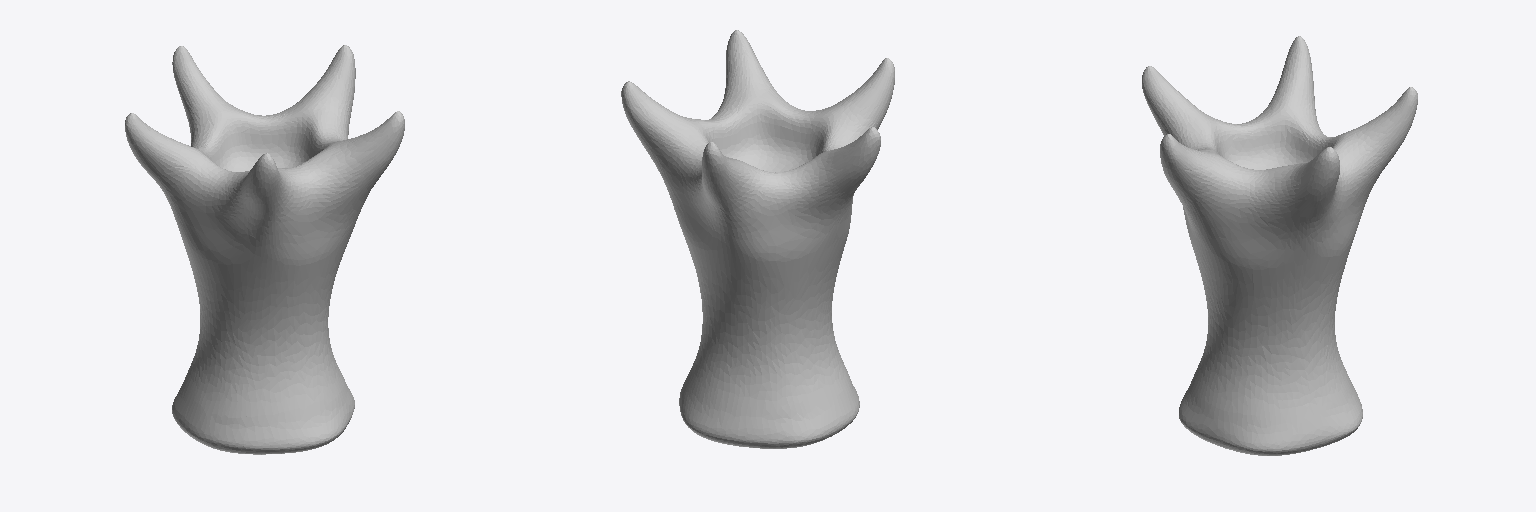
The model's file is eat-simple-2.obj.
3 renders of one model, left to right at view 1: azimuth 30°, elevation 25°; view 2: azimuth 150°, elevation 25°; view 3: azimuth 270°, elevation 25°, orthographic.
Parts seen in each view (by area): view 1: Quad_Sphere; view 2: Quad_Sphere; view 3: Quad_Sphere.
Boxes of the visible parts, <box> form: Quad_Sphere: <box>125,45,404,454</box>; Quad_Sphere: <box>621,30,894,448</box>; Quad_Sphere: <box>1142,36,1417,455</box>.
Bounding box in the file's own units: 3.69 × 4.79 × 3.65.